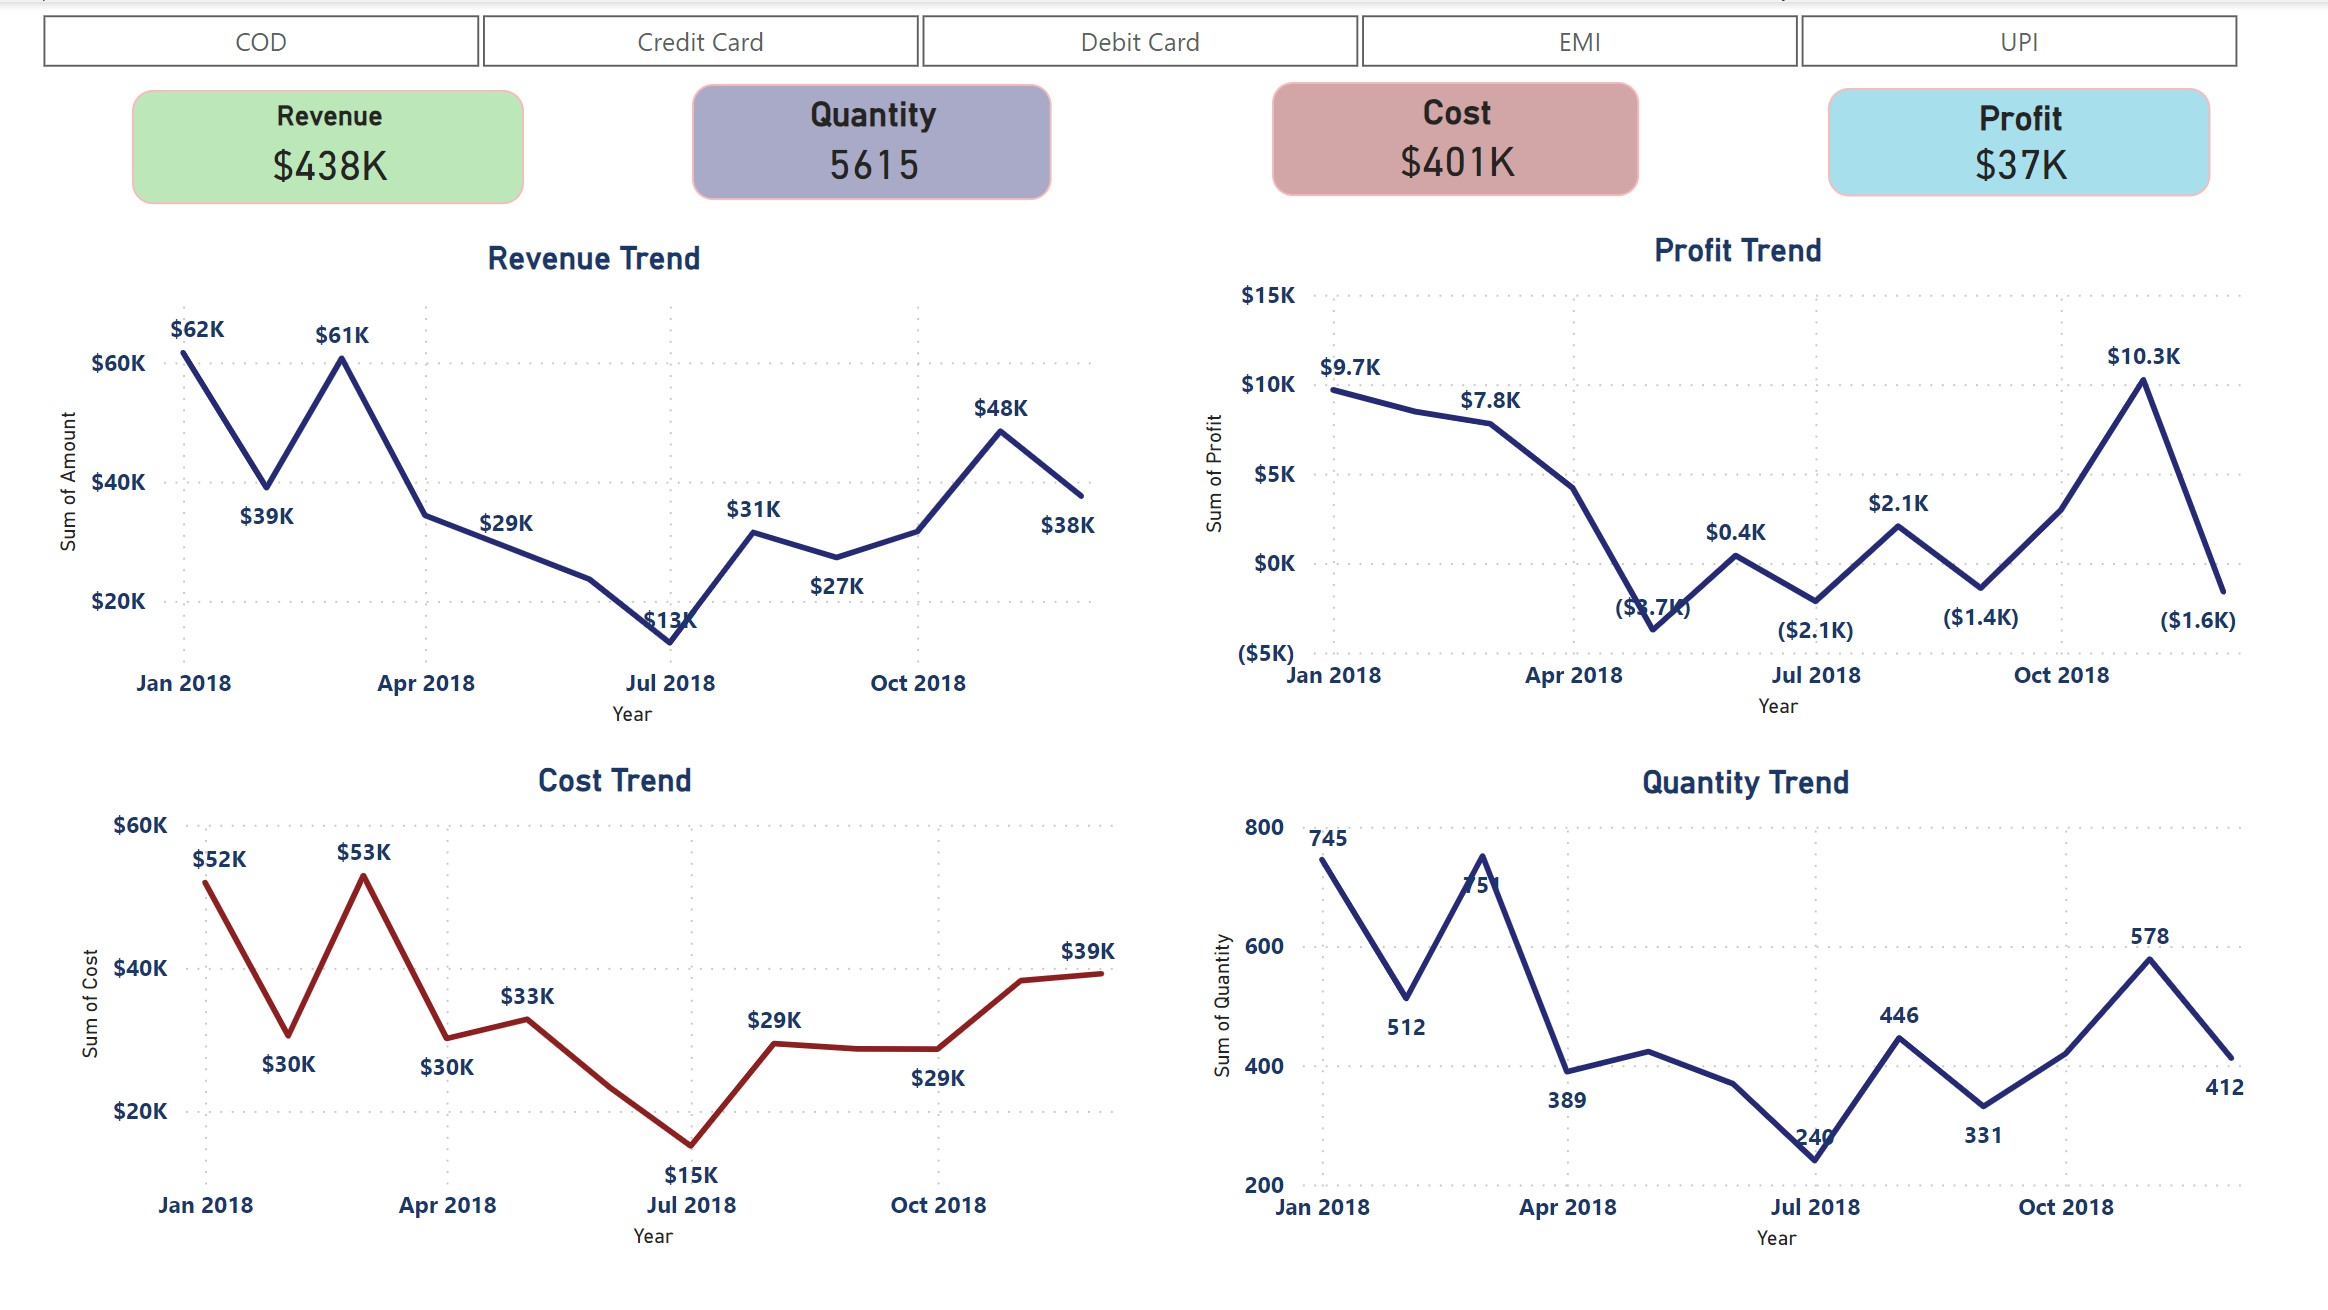

What the dashboard file says about the page in this screenshot:
{"tool":"powerbi","page":{"name":"Financial Portfolio","canvas":[1280,720],"ordinal":0},"visuals":[{"type":"lineChart","title":"Revenue Trend","fields":{"Category":["Orders.Order Date.Variation.Date Hierarchy.Year","Orders.Order Date.Variation.Date Hierarchy.Quarter","Orders.Order Date.Variation.Date Hierarchy.Month","Orders.Order Date.Variation.Date Hierarchy.Day"],"Y":["Sum(Details.Amount)"]},"box":[28,125,574,260],"z":0},{"type":"card","title":"Revenue","fields":{"Values":["Sum(Details.Amount)"]},"box":[73,46,206,60],"z":1000},{"type":"card","title":"Profit","fields":{"Values":["Sum(Details.Profit)"]},"box":[964,45,201,57],"z":2000},{"type":"card","title":"Quantity","fields":{"Values":["Sum(Details.Quantity)"]},"box":[367,43,189,61],"z":3000},{"type":"card","title":"Cost","fields":{"Values":["Sum(Details.Cost)"]},"box":[672,42,193,60],"z":4000},{"type":"lineChart","title":"Quantity Trend","fields":{"Category":["Orders.Order Date.Variation.Date Hierarchy.Year","Orders.Order Date.Variation.Date Hierarchy.Quarter","Orders.Order Date.Variation.Date Hierarchy.Month","Orders.Order Date.Variation.Date Hierarchy.Day"],"Y":["Sum(Details.Quantity)"]},"box":[635,400,572,260],"z":5000},{"type":"lineChart","title":"Cost Trend","fields":{"Category":["Orders.Order Date.Variation.Date Hierarchy.Year","Orders.Order Date.Variation.Date Hierarchy.Quarter","Orders.Order Date.Variation.Date Hierarchy.Month","Orders.Order Date.Variation.Date Hierarchy.Day"],"Y":["Sum(Details.Cost)"]},"box":[40,399,573,260],"z":6000},{"type":"lineChart","title":"Profit Trend","fields":{"Category":["Orders.Order Date.Variation.Date Hierarchy.Year","Orders.Order Date.Variation.Date Hierarchy.Quarter","Orders.Order Date.Variation.Date Hierarchy.Month","Orders.Order Date.Variation.Date Hierarchy.Day"],"Y":["Sum(Details.Profit)"]},"box":[631,121,572,260],"z":7000},{"type":"slicer","fields":{"Values":["Details.PaymentMode"]},"box":[0,0,1203,35],"z":8000}]}

Visuals, with their boxes in screenshot pixels (x1, y1, x2, y2), scaled from the page's 1280x720 canvas onto the 2328x1310 screenshot:
"Revenue Trend" lineChart: x1=51 y1=227 x2=1095 y2=700
"Revenue" card: x1=133 y1=84 x2=507 y2=193
"Profit" card: x1=1753 y1=82 x2=2119 y2=186
"Quantity" card: x1=667 y1=78 x2=1011 y2=189
"Cost" card: x1=1222 y1=76 x2=1573 y2=186
"Quantity Trend" lineChart: x1=1155 y1=728 x2=2195 y2=1201
"Cost Trend" lineChart: x1=73 y1=726 x2=1115 y2=1199
"Profit Trend" lineChart: x1=1148 y1=220 x2=2188 y2=693
slicer - Details.PaymentMode: x1=0 y1=0 x2=2188 y2=64
